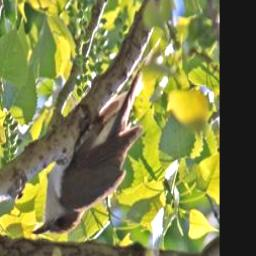Cuckoo: (31, 49, 148, 239)
